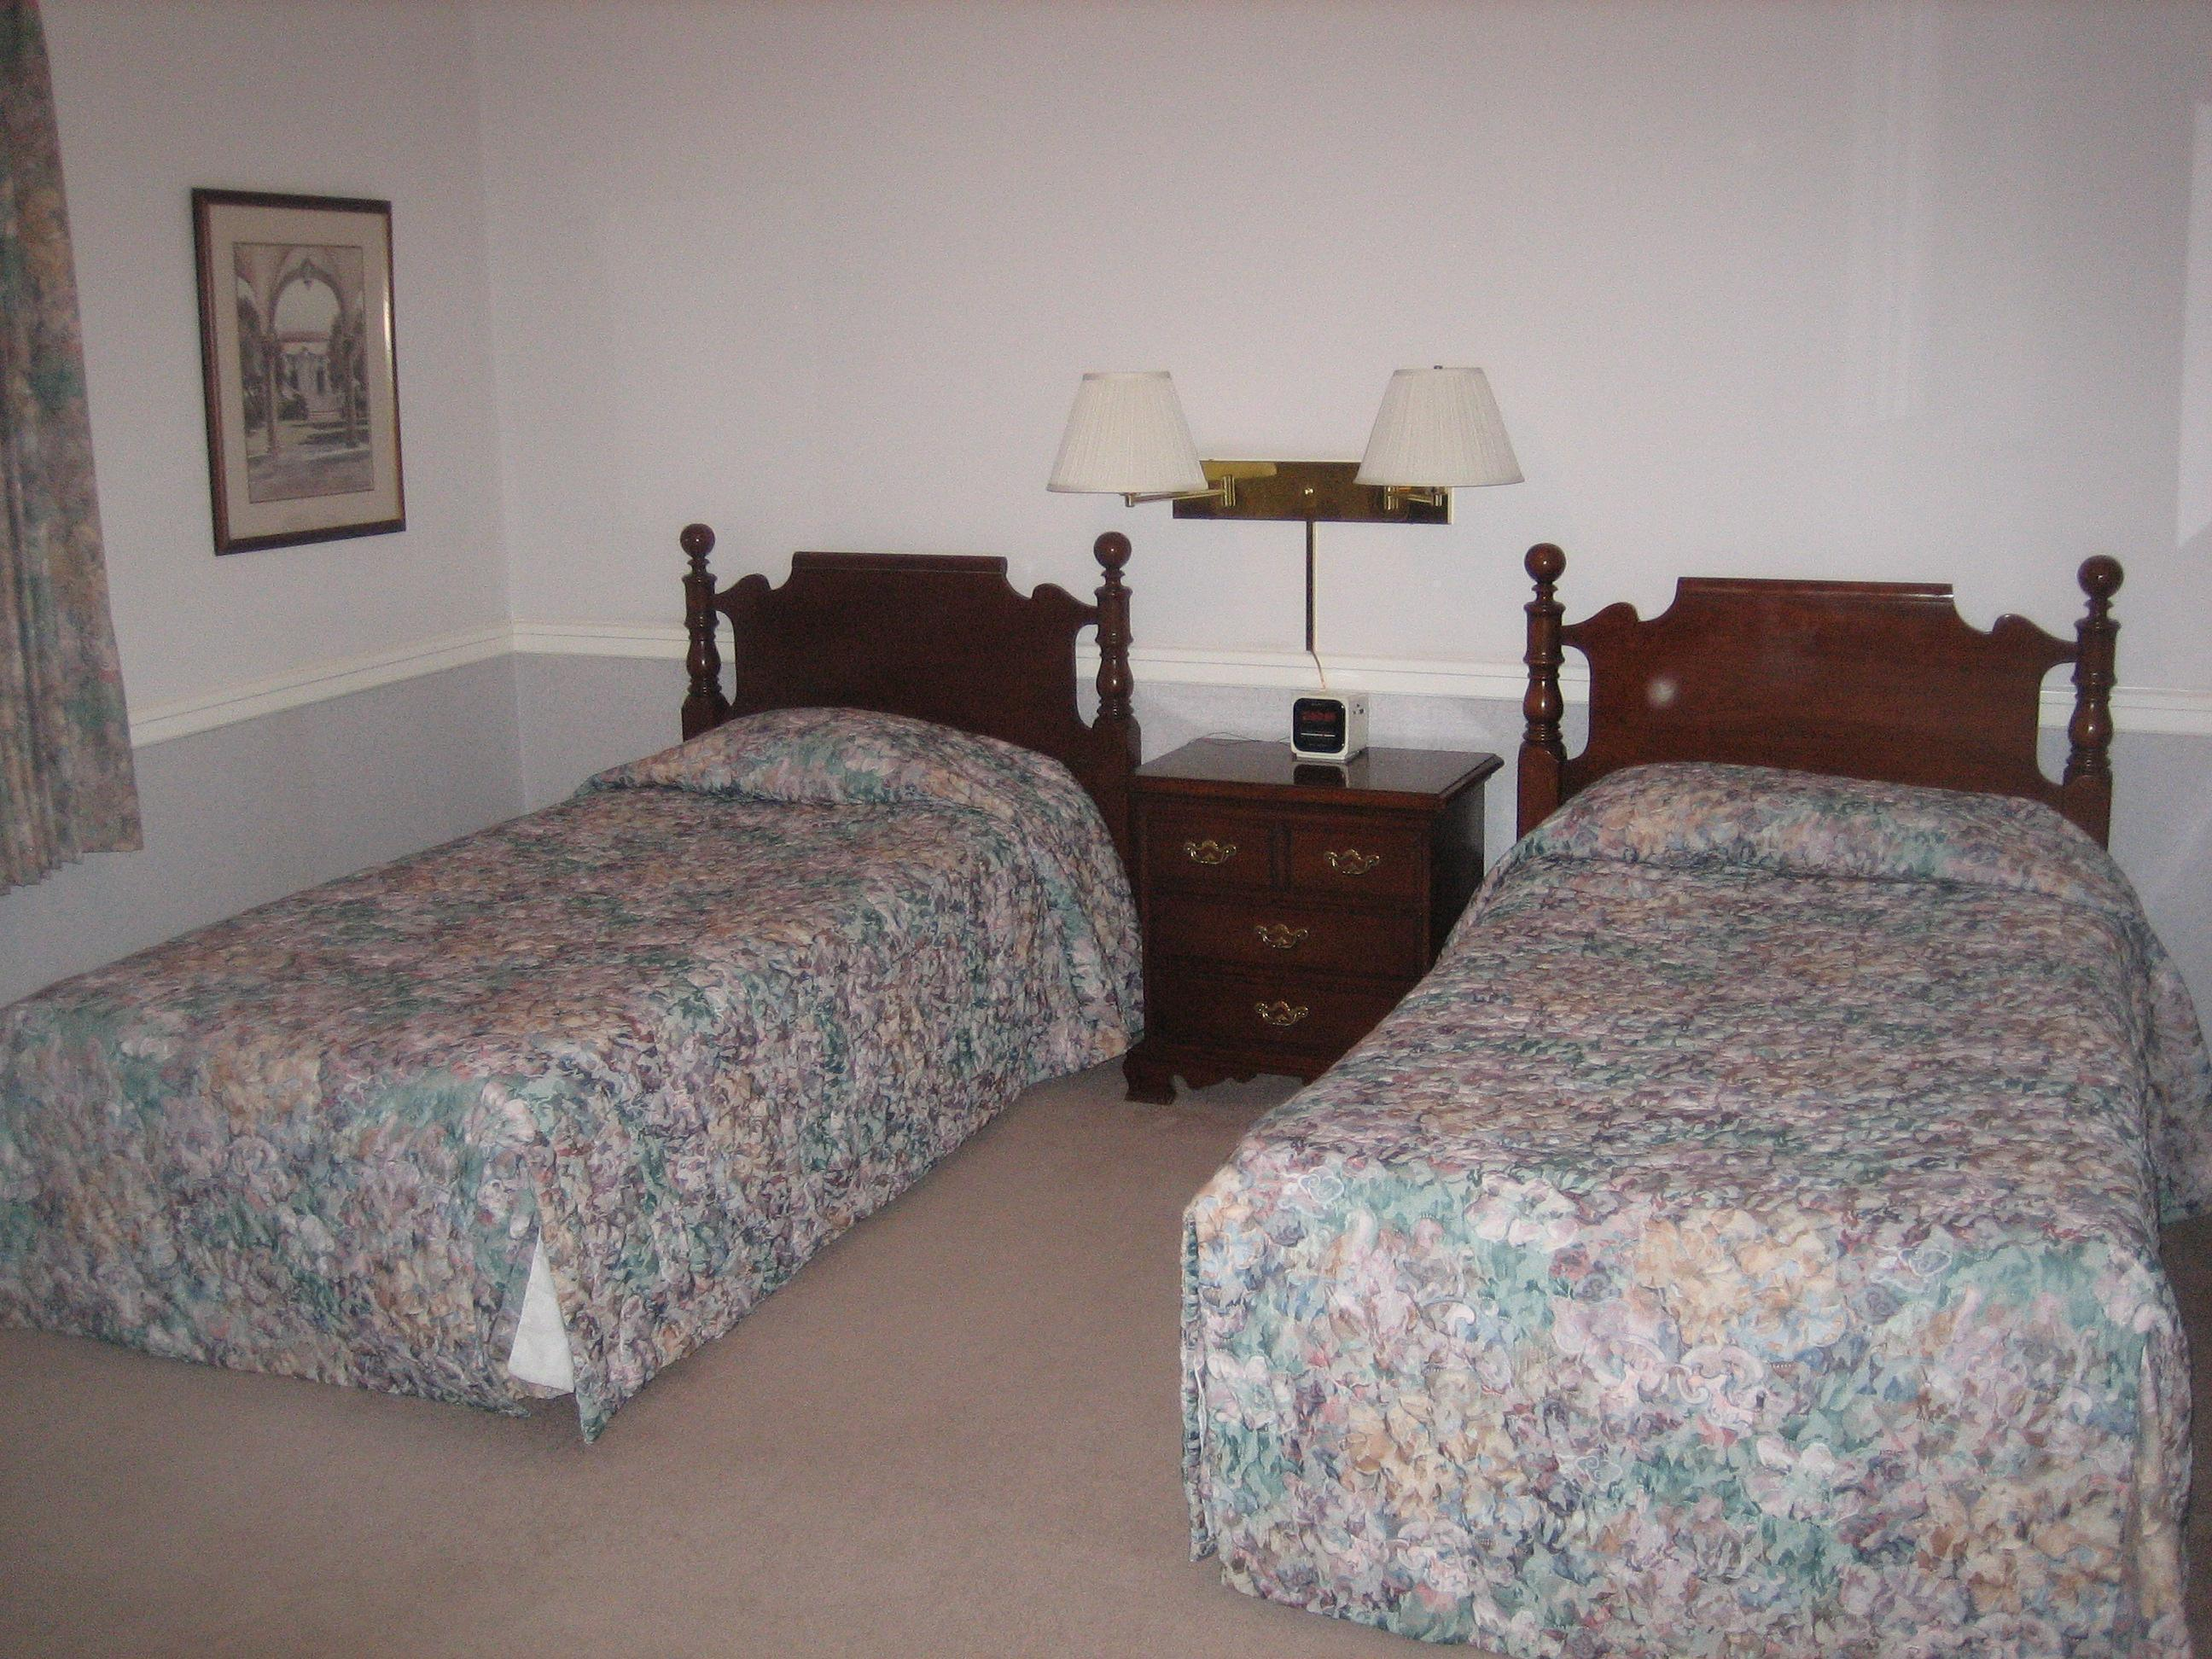Cama: (1205, 526, 2184, 1649), (14, 509, 1146, 1467)
